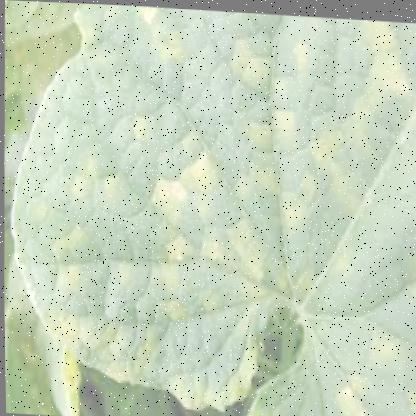DownyMildew: (45, 2, 354, 391)
